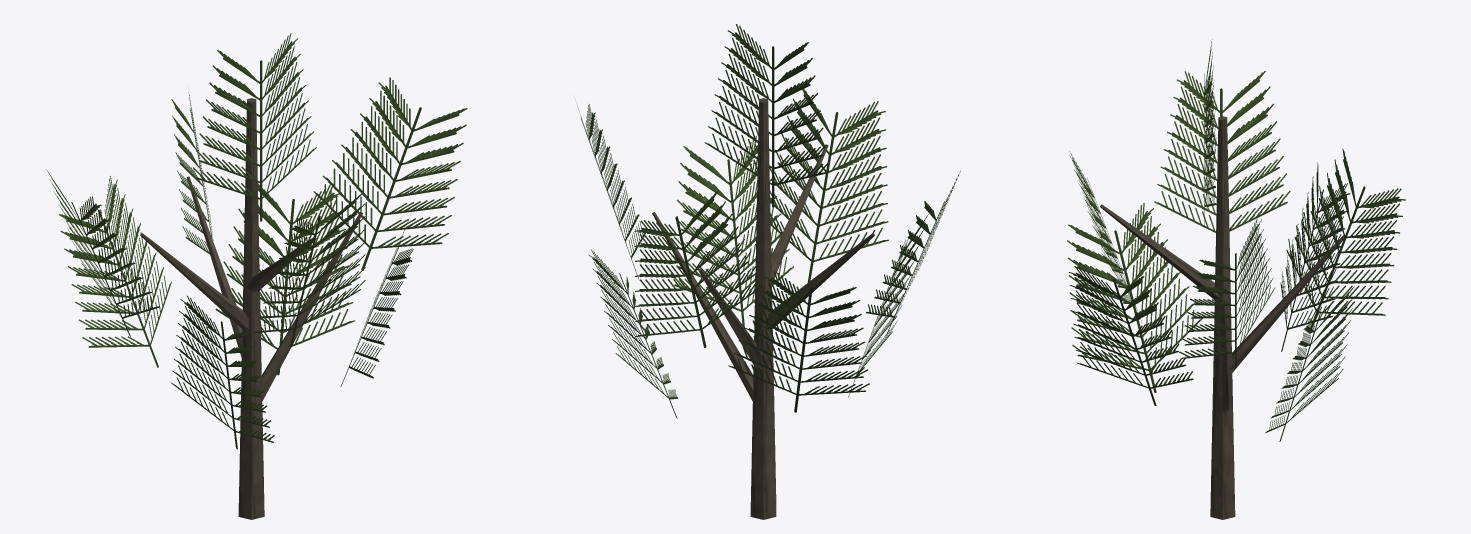
The model's file is douglas_fir_sprig_lod1.glb.
3 views of the same model, side by side, from view 1: azimuth 30°, elevation 25°; view 2: azimuth 150°, elevation 25°; view 3: azimuth 270°, elevation 25° (orthographic). The views are drawn at different scales.
Parts seen in each view (by area): view 1: douglas_fir_sprig_lod1_leaves, douglas_fir_sprig_lod1_wood; view 2: douglas_fir_sprig_lod1_leaves, douglas_fir_sprig_lod1_wood; view 3: douglas_fir_sprig_lod1_leaves, douglas_fir_sprig_lod1_wood.
Part boxes in pixels (<box>): douglas_fir_sprig_lod1_leaves: <box>46,33,467,449</box>; douglas_fir_sprig_lod1_wood: <box>140,98,362,519</box>; douglas_fir_sprig_lod1_leaves: <box>577,24,960,418</box>; douglas_fir_sprig_lod1_wood: <box>652,98,874,519</box>; douglas_fir_sprig_lod1_leaves: <box>1067,39,1405,441</box>; douglas_fir_sprig_lod1_wood: <box>1100,116,1344,519</box>.
Size of the model in its own units: 1.13 by 1.2 by 1.06.
Materials: 2 (2 with a texture image).
